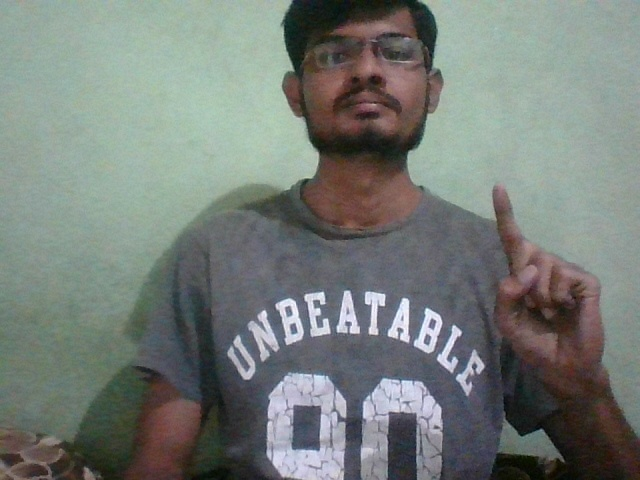where: (462, 175, 623, 378)
